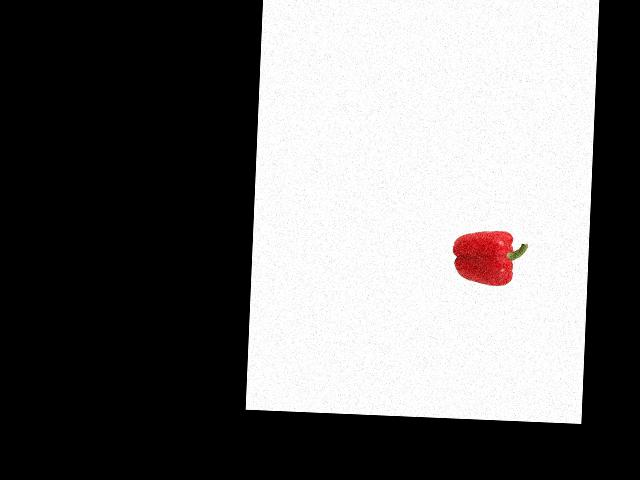bell_pepper: (450, 226, 528, 295)
